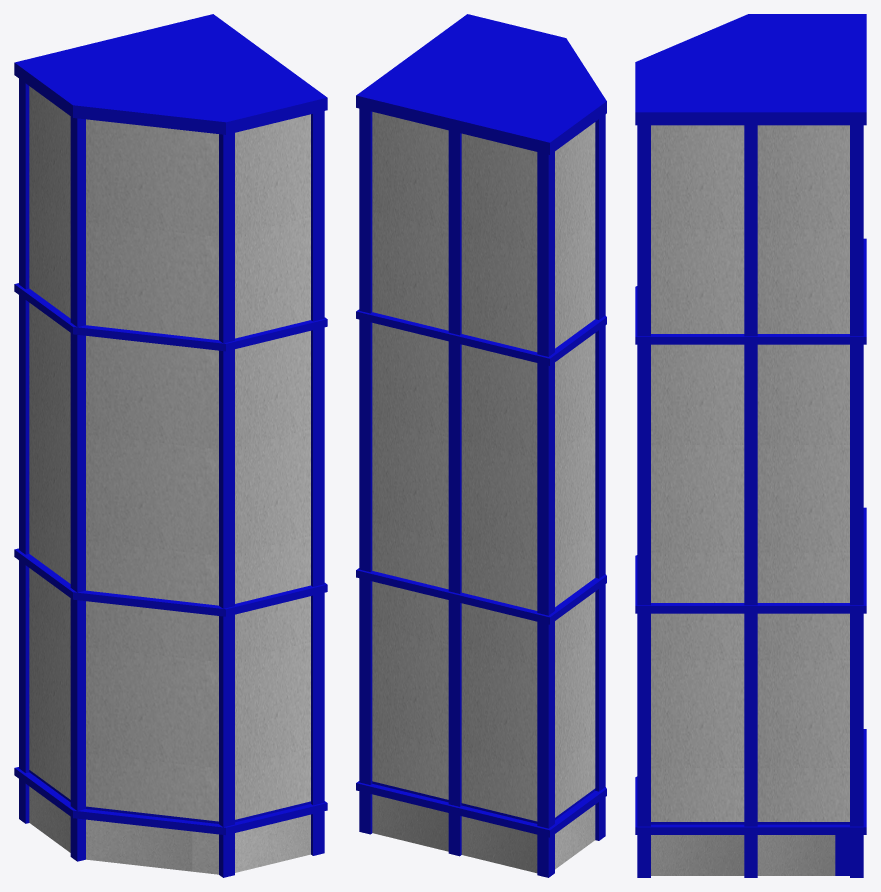
The model's file is building3.fbx.
3 views of the same model, side by side, from view 1: azimuth 30°, elevation 25°; view 2: azimuth 150°, elevation 25°; view 3: azimuth 270°, elevation 25° (orthographic). The views are drawn at different scales.
Visible parts, largest first — view 1: Building_22; view 2: Building_22; view 3: Building_22.
Part boxes in pixels (x1,y1,x2,y2): Building_22: (14, 14, 327, 877); Building_22: (356, 14, 606, 877); Building_22: (635, 14, 866, 877).
Bounding box in the file's own units: 42.73 × 155 × 42.5.
Materials: 2 (1 with a texture image).
